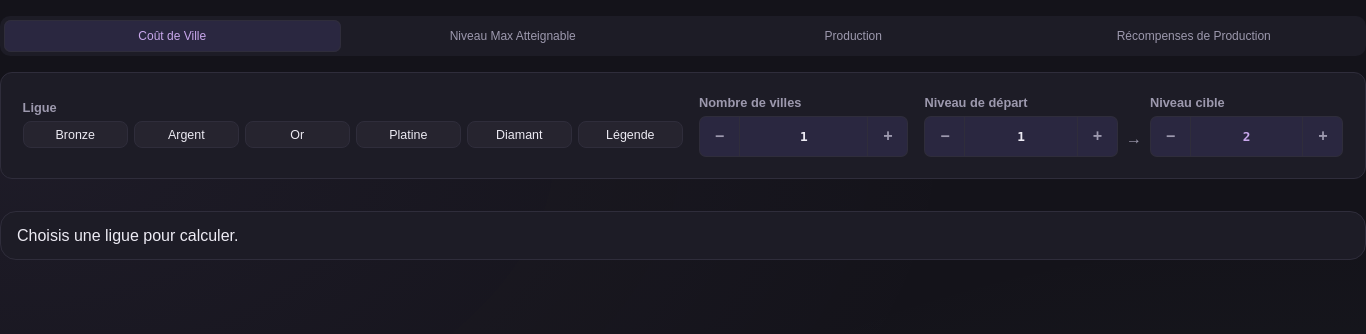
Test case: CityCalculators › computes the Or block bonus from a base production and hours received, applying the unit selector
Click the tab "Récompenses de Production": (1194, 36) [1026,20,1362,52]
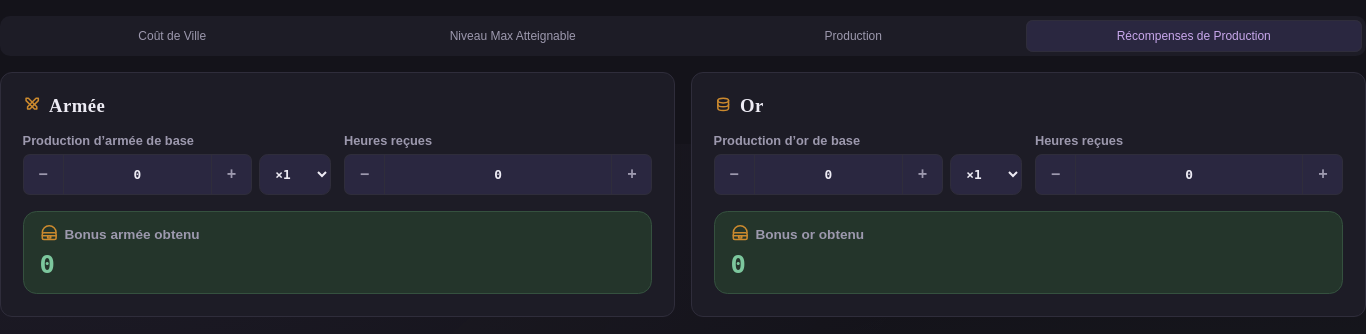
Replace the text in the number field named "Production d’or de base" with "2": (828, 174) [754,154,903,195]
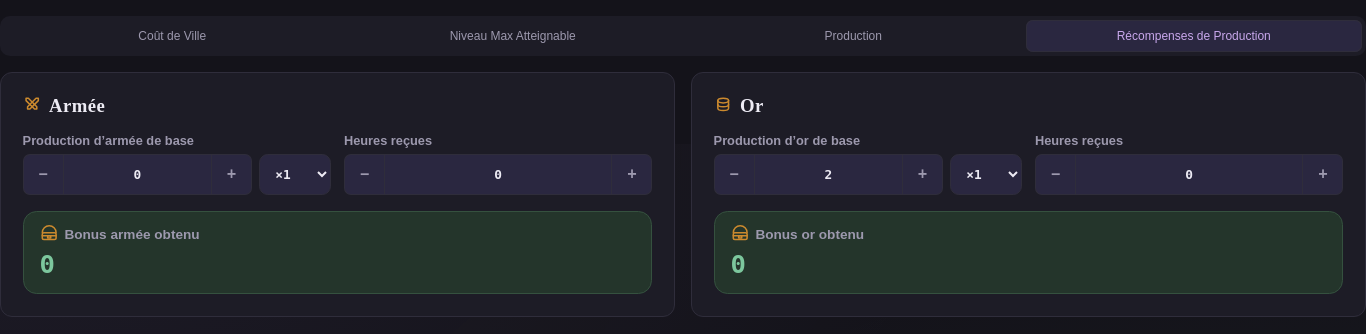
Select "k" in the dropdown named "Unité de production d’or": (986, 174) [950,154,1022,195]
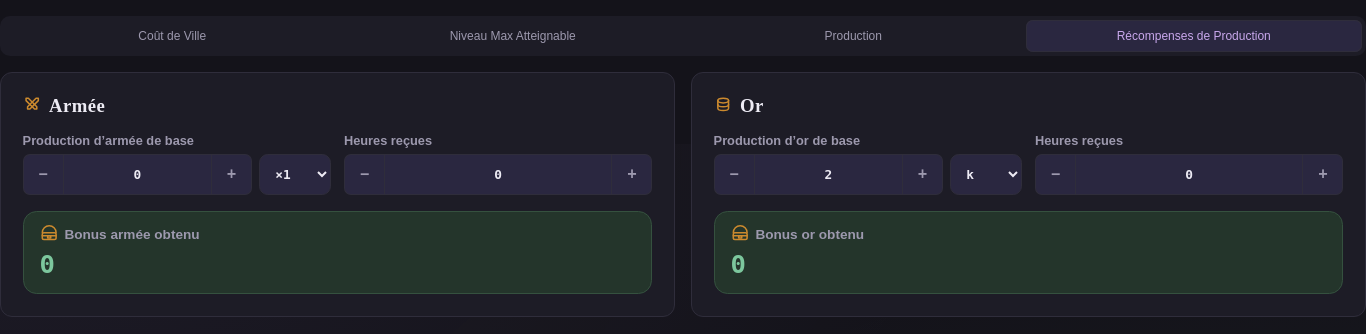
Replace the text in the number field named "Heures reçues — Or" with "5": (1189, 174) [1075,154,1303,195]
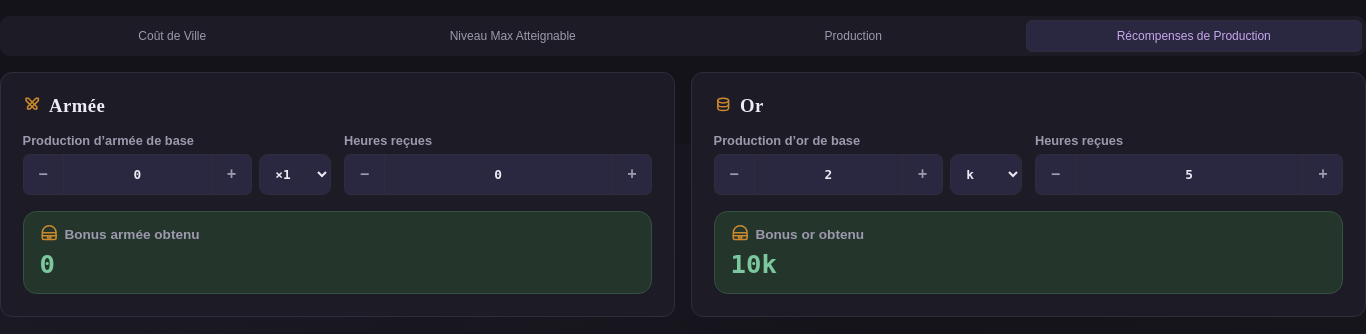
Expected: the text with test id "city-rewards-gold" reads "10k", [731,249,777,279]
